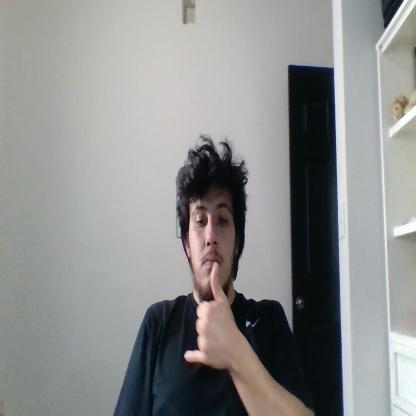Y: (184, 261, 233, 368)
